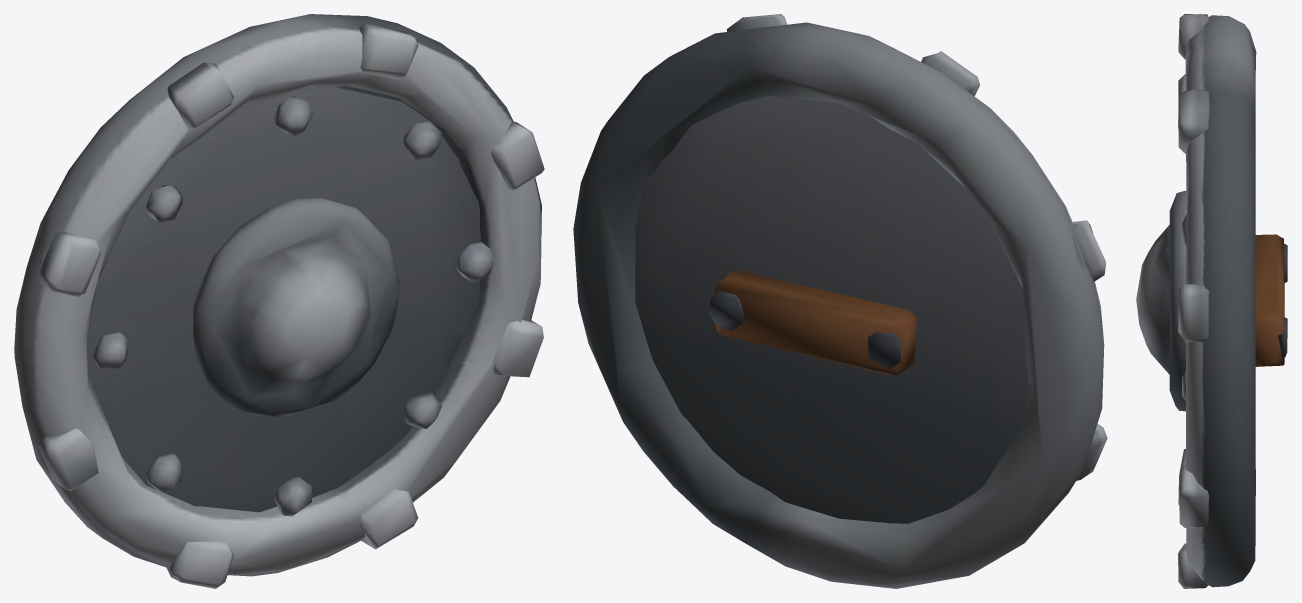
Rendered from buckler.glb.
The picture shows the model from 3 angles, left to right: view 1: azimuth 30°, elevation 25°; view 2: azimuth 150°, elevation 25°; view 3: azimuth 270°, elevation 25°; orthographic projection. The views are drawn at different scales.
Parts seen in each view (by area): view 1: face; view 2: face; view 3: face.
Boxes of the visible parts, x1=… form: face: x1=14, y1=14, x2=544, y2=588; face: x1=573, y1=14, x2=1107, y2=588; face: x1=1136, y1=14, x2=1287, y2=588.
Bounding box in the file's own units: 0.357 × 0.357 × 0.0944.
1 material, 1 textured.
